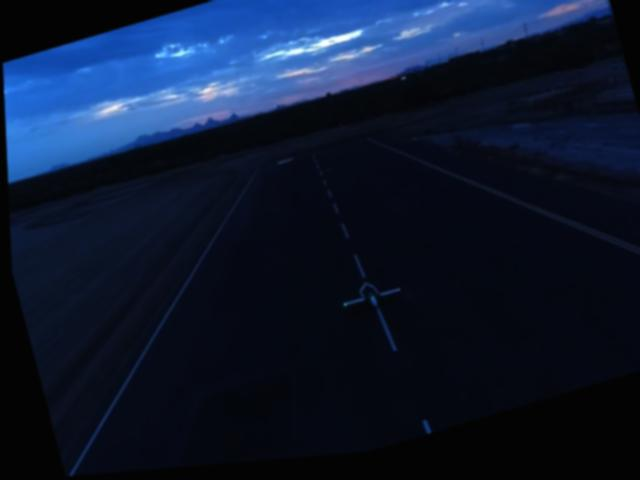plane: (335, 280, 402, 325)
